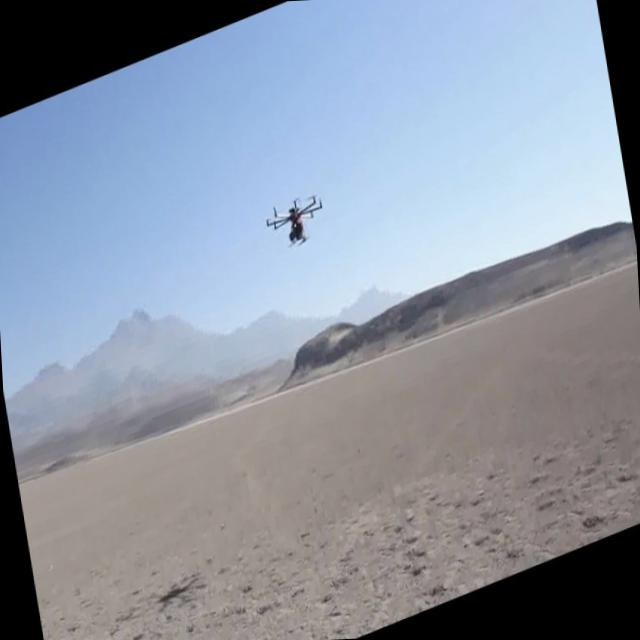drone: (260, 180, 330, 261)
